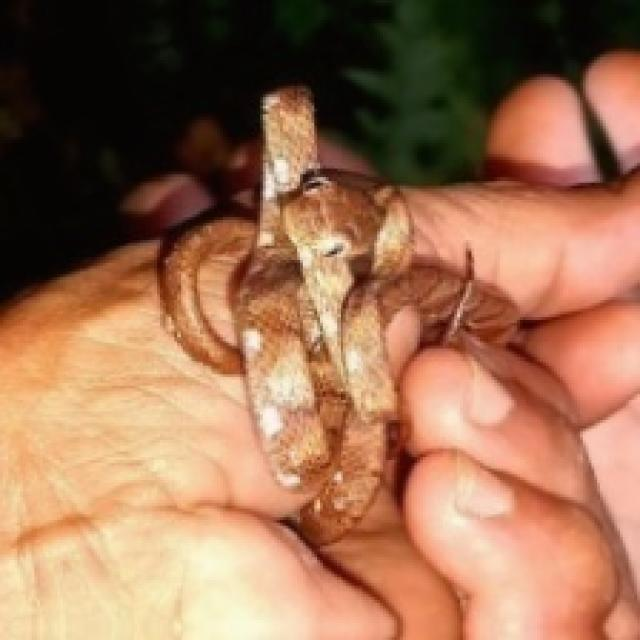philippine blunt-headed catsnake: (160, 86, 514, 543)
